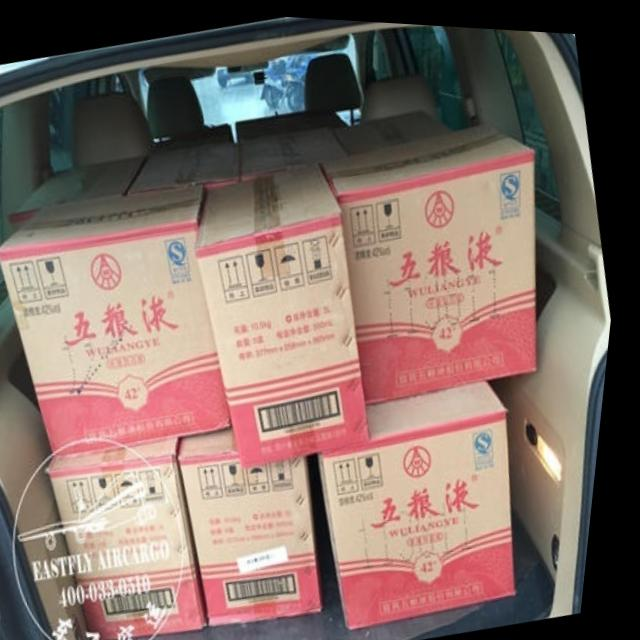box: (2, 181, 239, 455), (322, 116, 542, 398), (200, 159, 379, 464), (328, 373, 528, 623), (57, 435, 222, 640), (189, 425, 335, 622), (13, 154, 151, 231), (127, 138, 244, 193), (242, 123, 352, 175), (334, 105, 450, 152)
